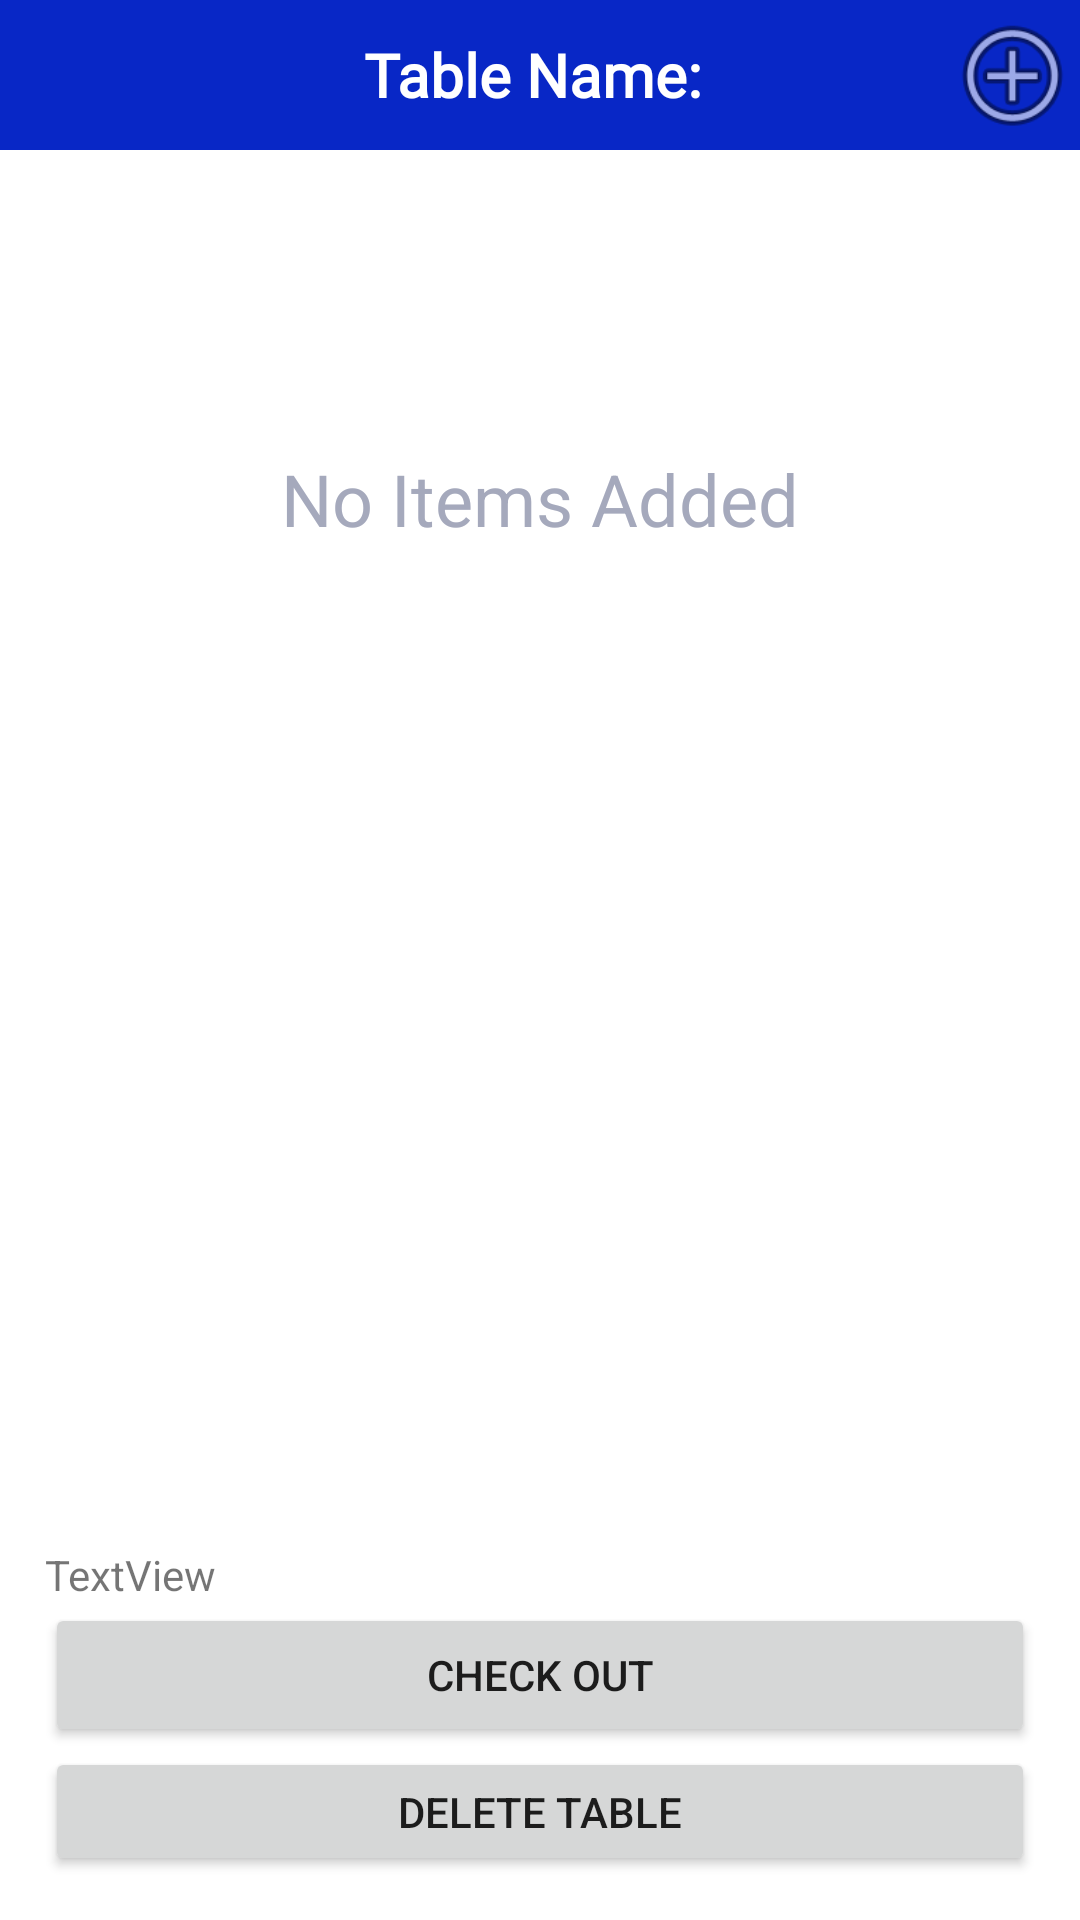

Named icons in this screenshot (1080px×1920px) and their centers, (x,y):
add: (1012,76)
